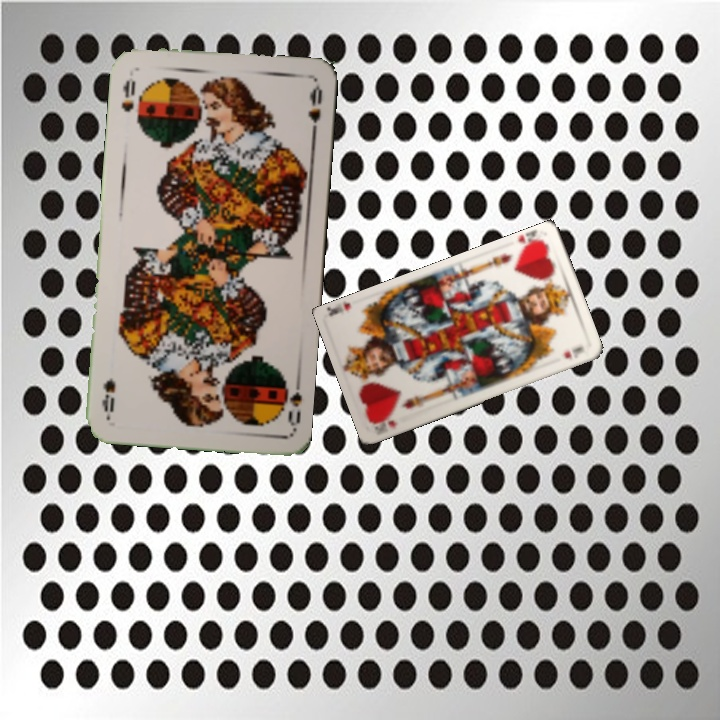HK: (514, 228, 547, 255), (371, 416, 400, 434)
SO: (277, 371, 305, 431), (117, 76, 138, 115)
